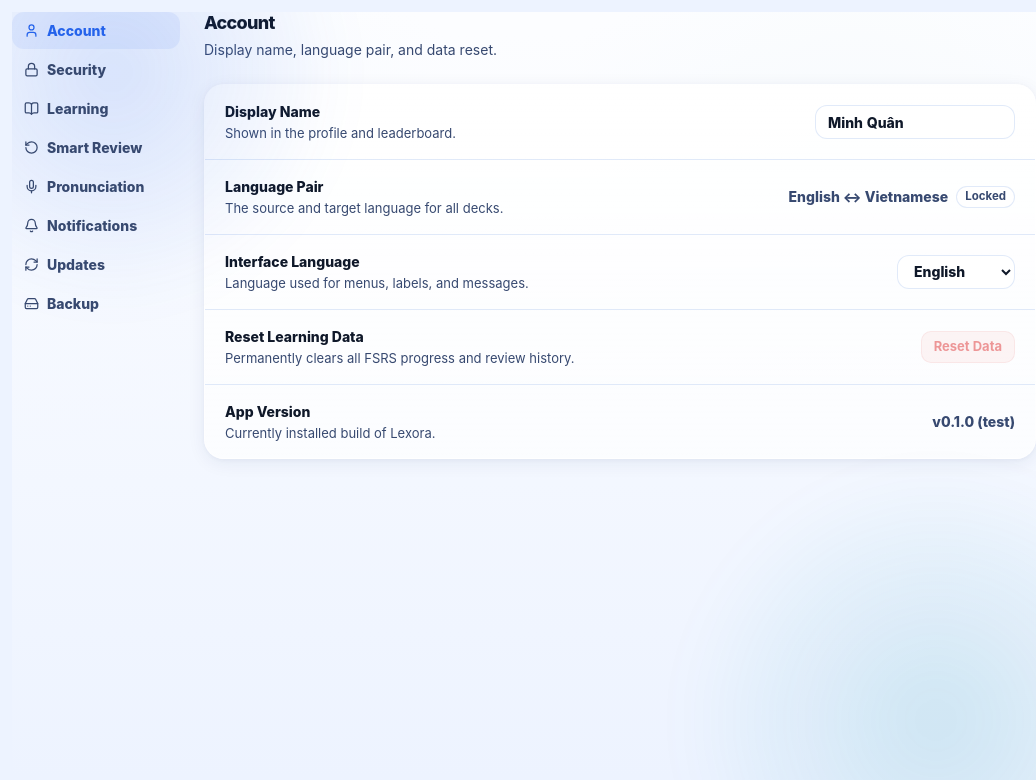
Test: SettingsPage › shows the FSRS note in Smart Review section
Click the button "Smart Review". click: x=96, y=148
box: x1=12 y1=129 x2=180 y2=166
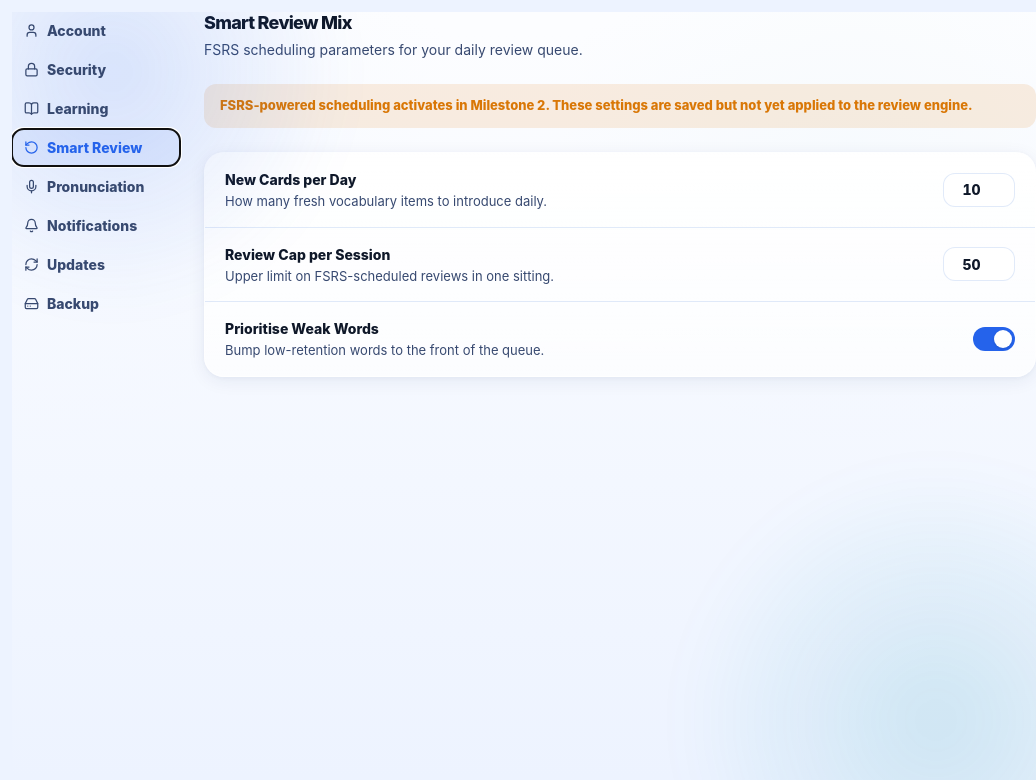
Result: the text "FSRS-powered scheduling" is shown at x1=220 y1=97 x2=973 y2=113
Result: the number field named "New cards per day" is shown at x1=943 y1=173 x2=1015 y2=207
